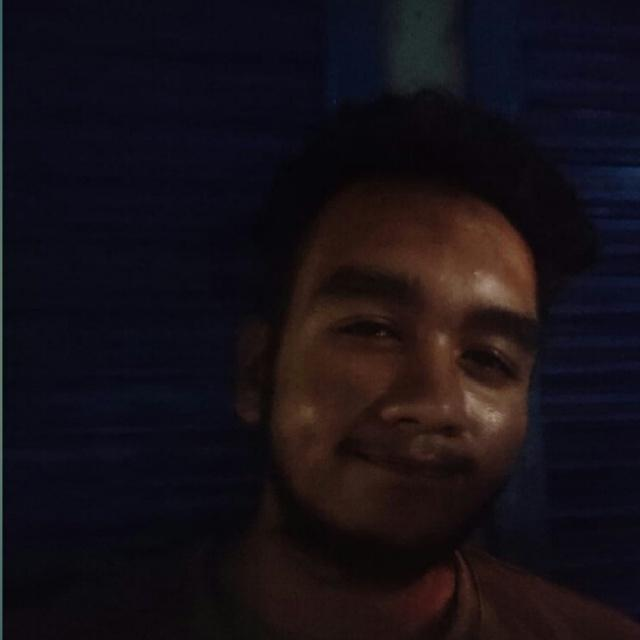Happy: (186, 125, 562, 584)
